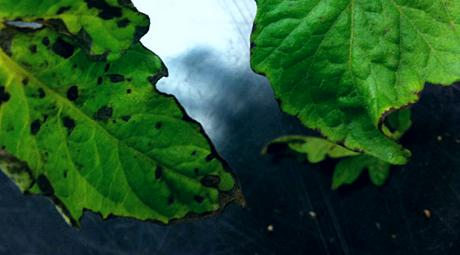Tomato leaf bacterial spot: (0, 0, 247, 222), (238, 0, 460, 197)
